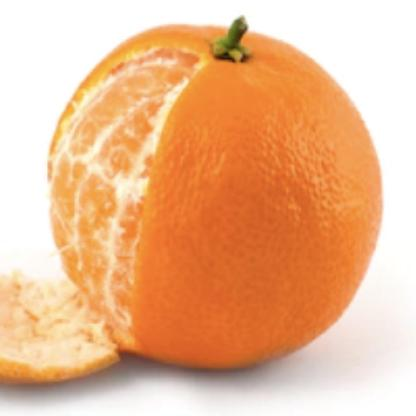fresh: (43, 20, 384, 368)
